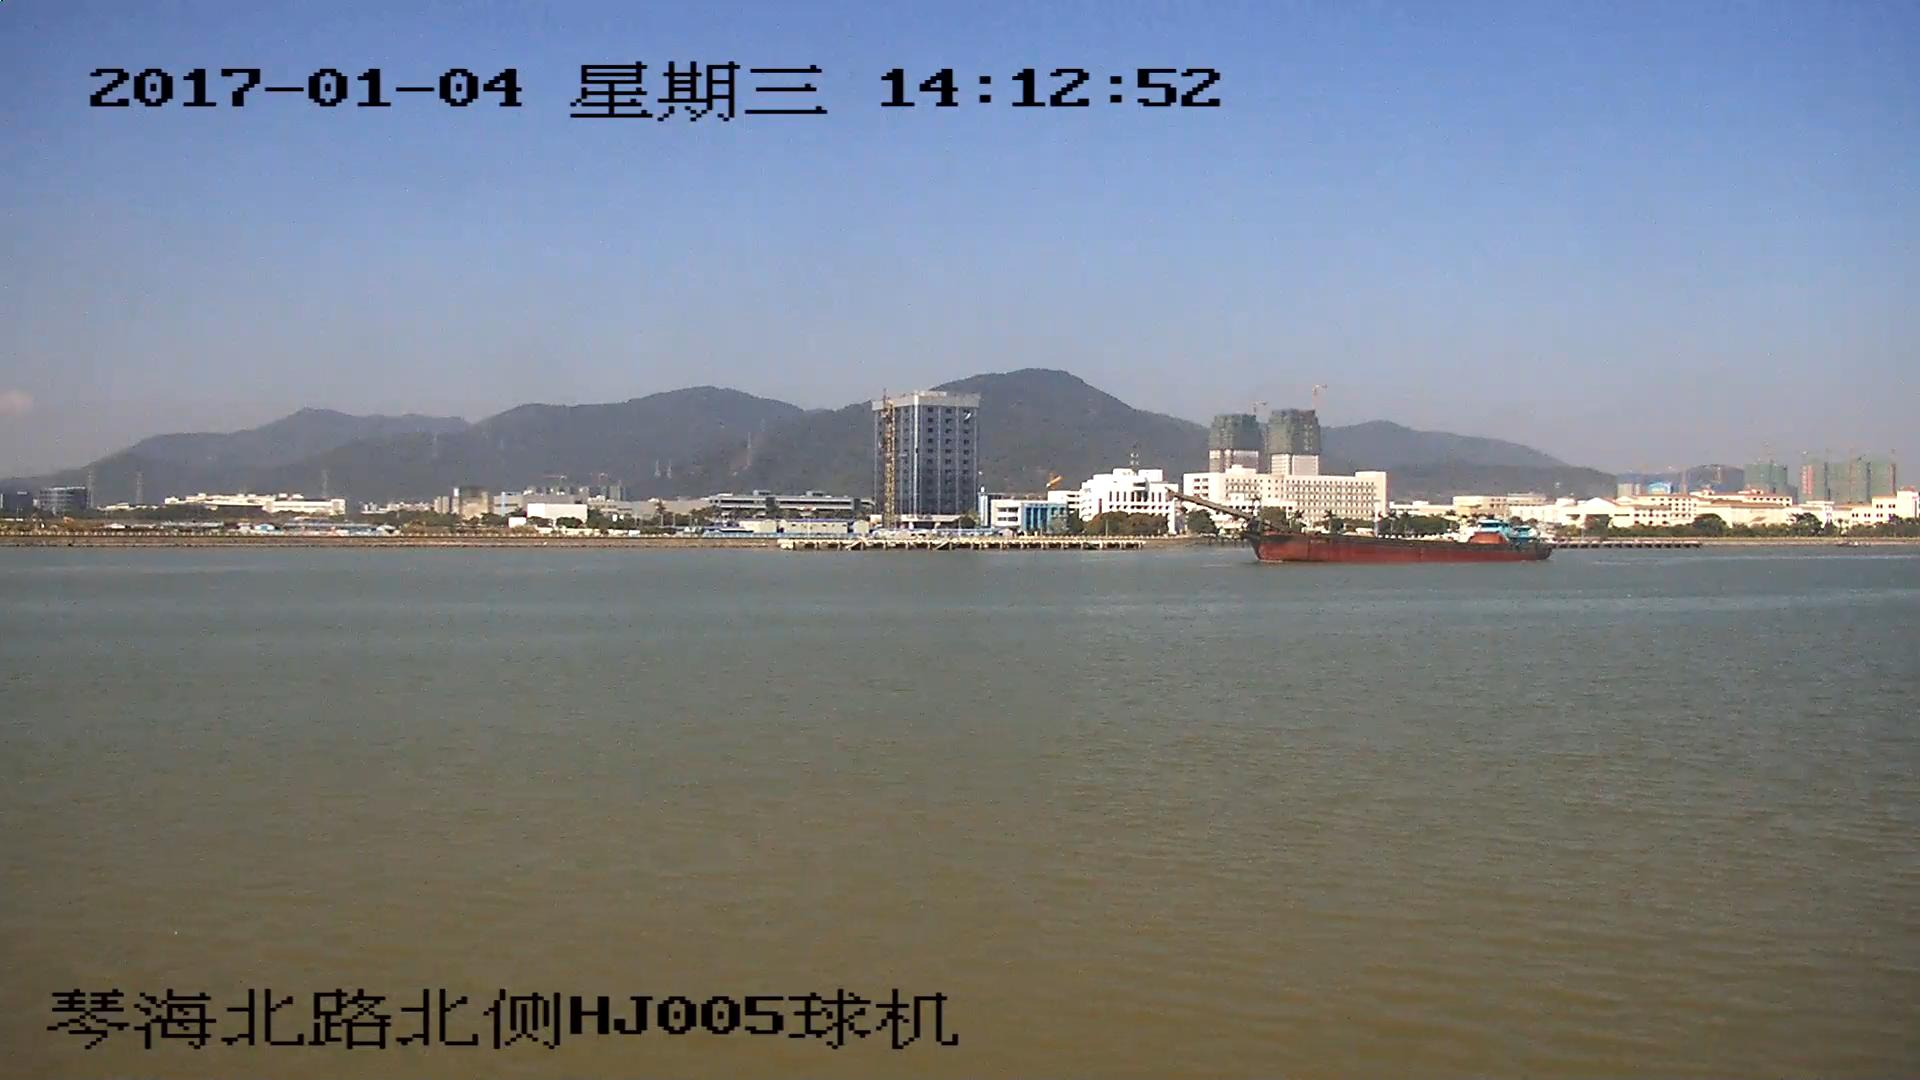bulk cargo carrier: (1167, 492, 1549, 563)
